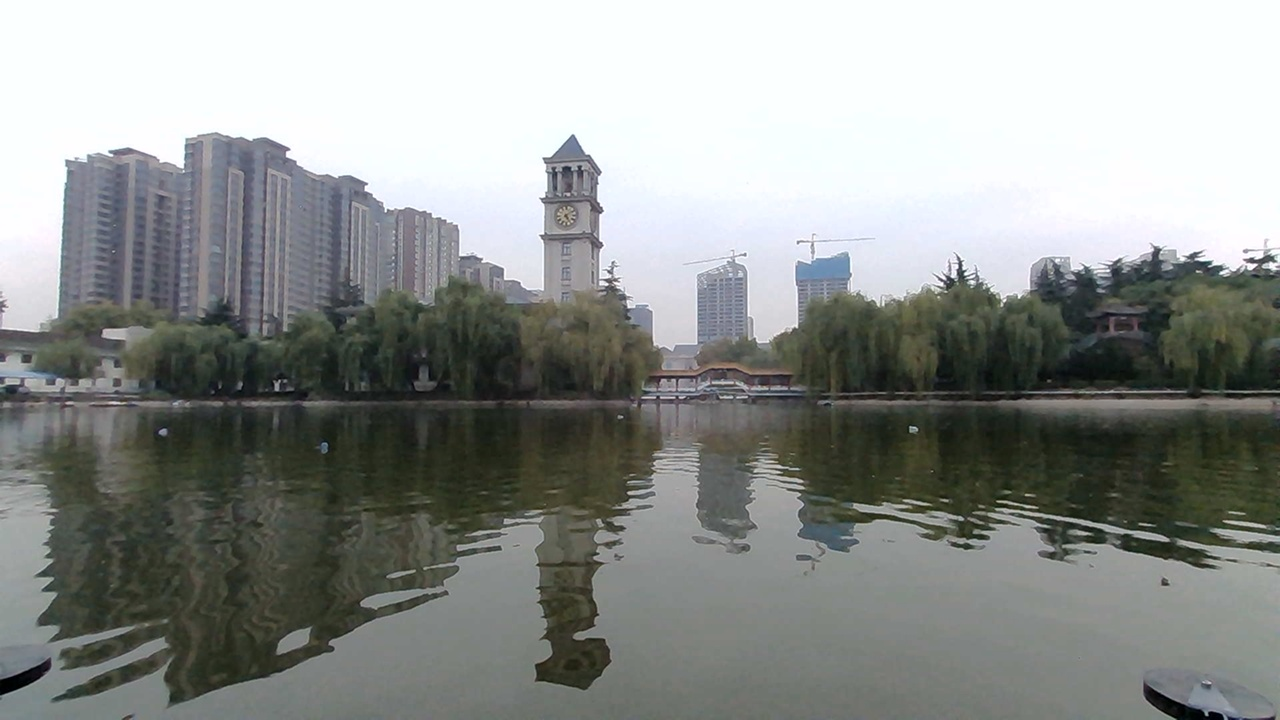bottle: (899, 416, 937, 437), (309, 436, 343, 458), (156, 415, 177, 443)
